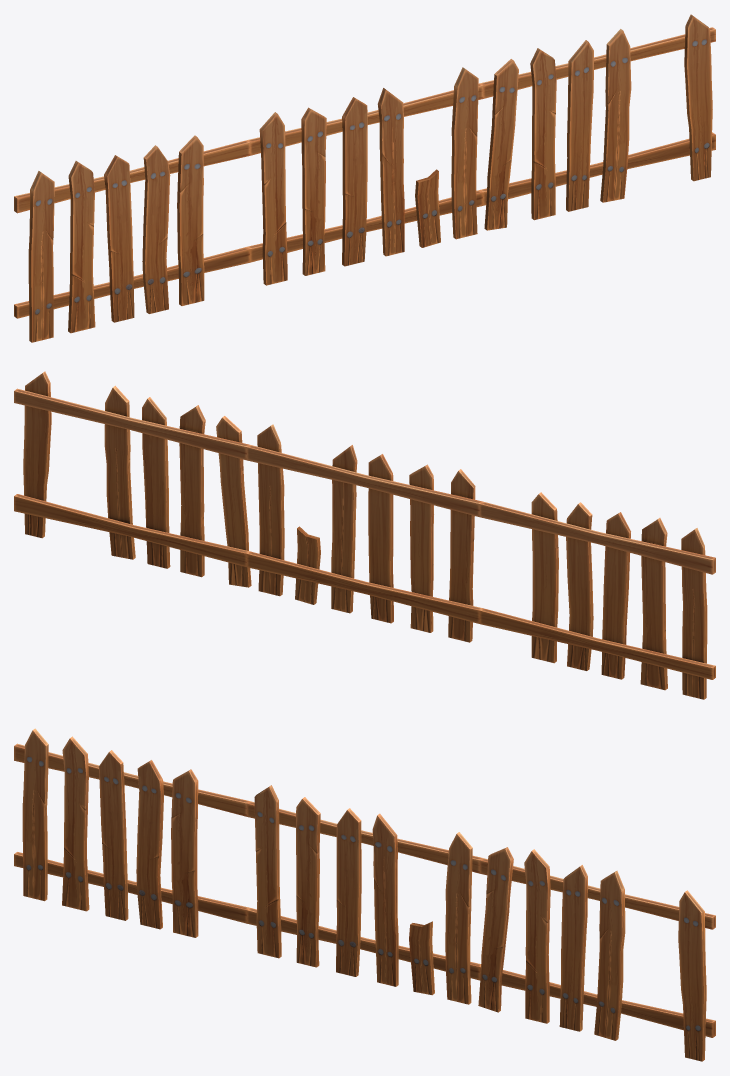
File: Fences02_5.FBX
3 views of the same model, one above another, from view 1: azimuth 30°, elevation 25°; view 2: azimuth 150°, elevation 25°; view 3: azimuth 330°, elevation 25° (orthographic).
Parts seen in each view (by area): view 1: Fences02_5; view 2: Fences02_5; view 3: Fences02_5.
Boxes of the visible parts, left/top/right/bottom form: Fences02_5: left=14, top=14, right=715, bottom=342; Fences02_5: left=14, top=371, right=715, bottom=699; Fences02_5: left=14, top=728, right=715, bottom=1061.
Size of what is drawn, in the model's own units: 5.25 by 1.22 by 0.078.
